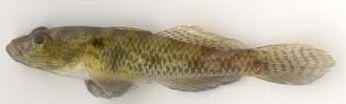Goby: (5, 14, 336, 104)
